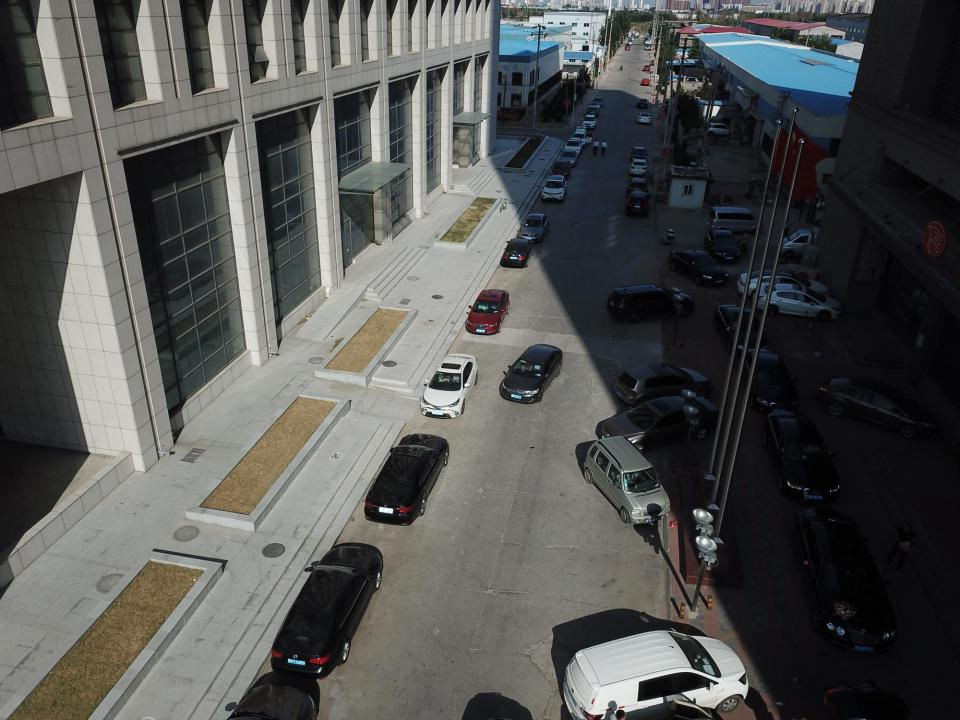car: (562, 627, 749, 720), (270, 546, 384, 681), (792, 508, 897, 654), (815, 374, 941, 439), (364, 433, 449, 526), (600, 395, 723, 456), (762, 412, 842, 502), (613, 363, 714, 408), (207, 682, 318, 720), (812, 679, 911, 720), (500, 343, 564, 405), (740, 347, 801, 412), (420, 352, 479, 418), (606, 283, 694, 324), (752, 283, 842, 322), (736, 270, 831, 302), (713, 304, 770, 356), (668, 249, 729, 287), (704, 229, 742, 264), (500, 238, 534, 268), (517, 213, 550, 243), (624, 190, 653, 218), (541, 174, 567, 202), (708, 121, 740, 139), (626, 176, 650, 198), (570, 125, 592, 148), (549, 159, 572, 179), (563, 137, 583, 156), (630, 157, 648, 176), (630, 146, 650, 162), (560, 149, 577, 167), (581, 114, 597, 129), (637, 111, 651, 126), (588, 100, 602, 114), (592, 96, 605, 108), (636, 98, 650, 108), (640, 78, 651, 86), (642, 64, 652, 72), (644, 44, 654, 51), (624, 44, 631, 51), (628, 40, 632, 46)
truck: (779, 227, 847, 261)
van: (582, 435, 672, 525), (707, 206, 764, 236)
